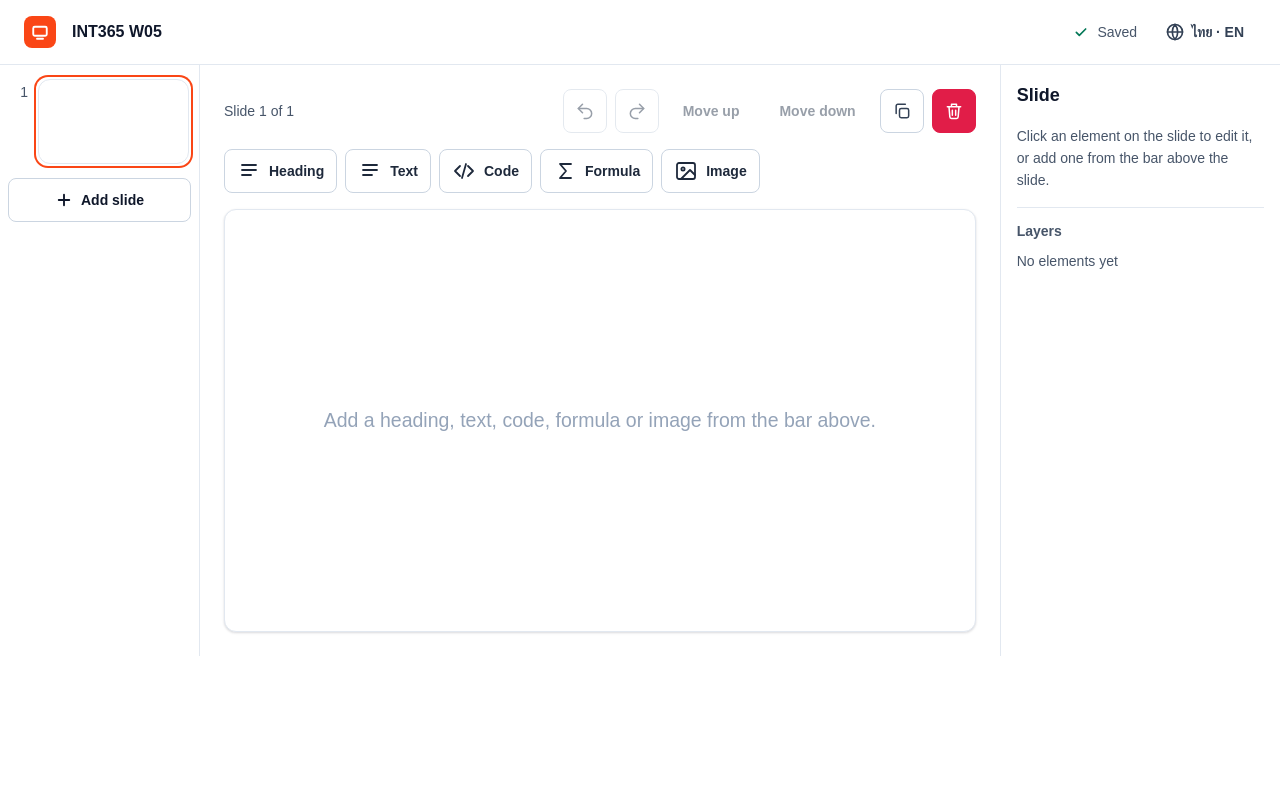
Scenario: DeckEditor: adding elements › adds a heading, ready to type in, and saves what is typed
Expected: the heading "INT365 W05" is shown, x1=72 y1=23 x2=162 y2=40
Click the button "Heading" at point(281, 171), box x1=224 y1=149 x2=337 y2=193
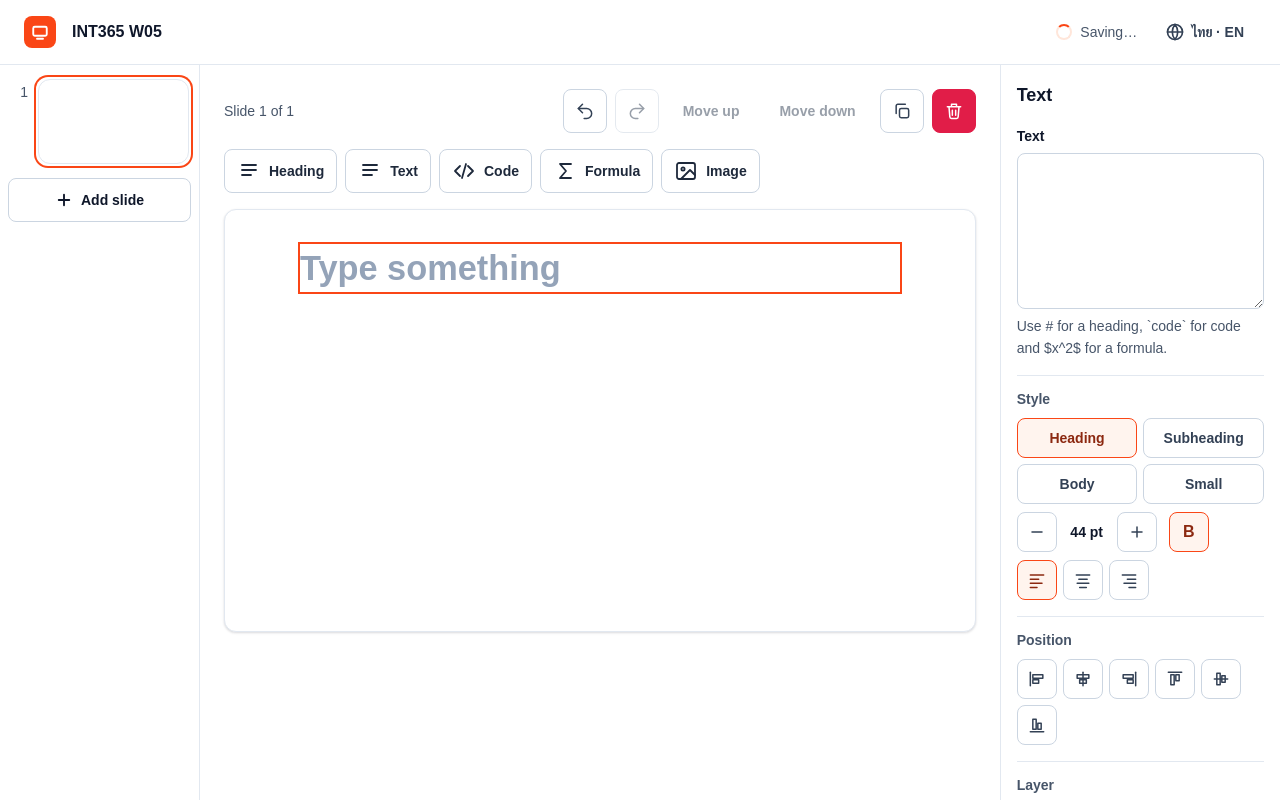
Type "Week 5" into the text box labelled "Type something" at point(600, 268), box x1=300 y1=244 x2=900 y2=292
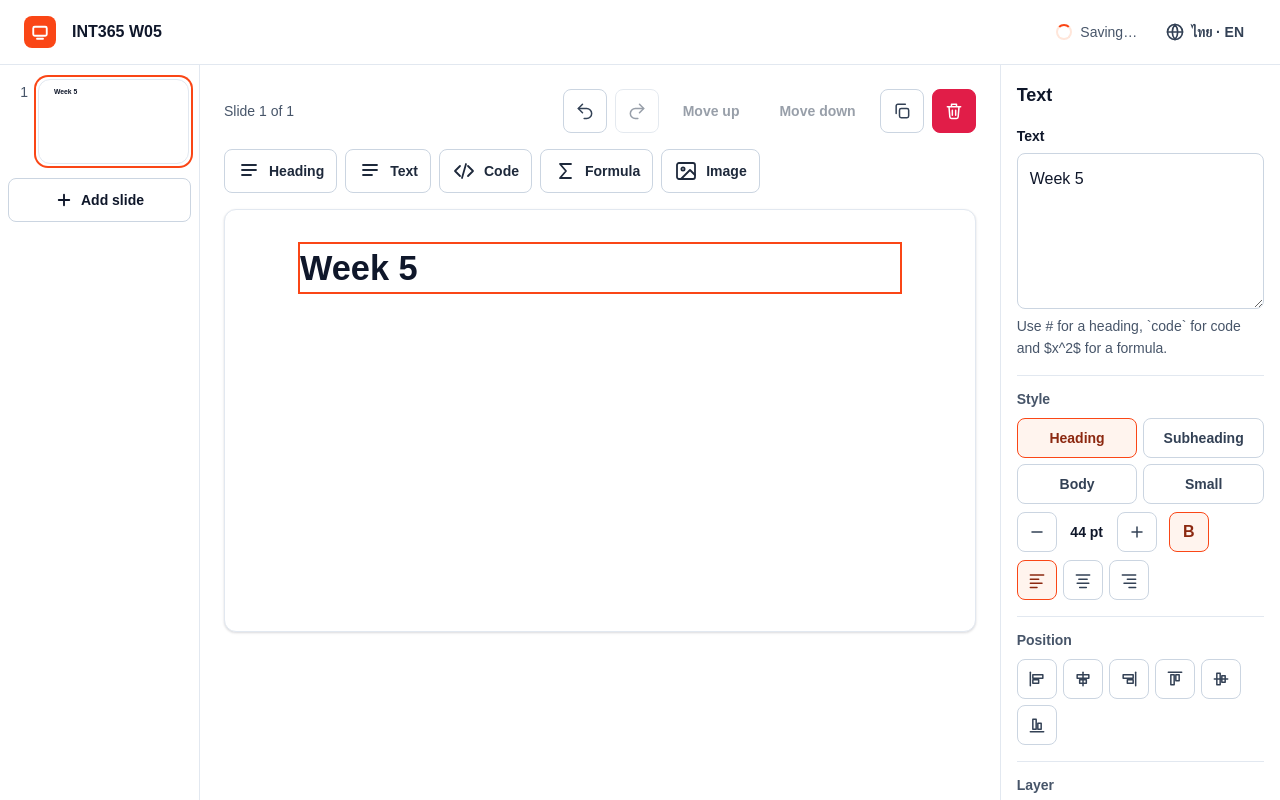
Leave the text box named "Type something", box x1=300 y1=244 x2=900 y2=292
Wait 900 ms
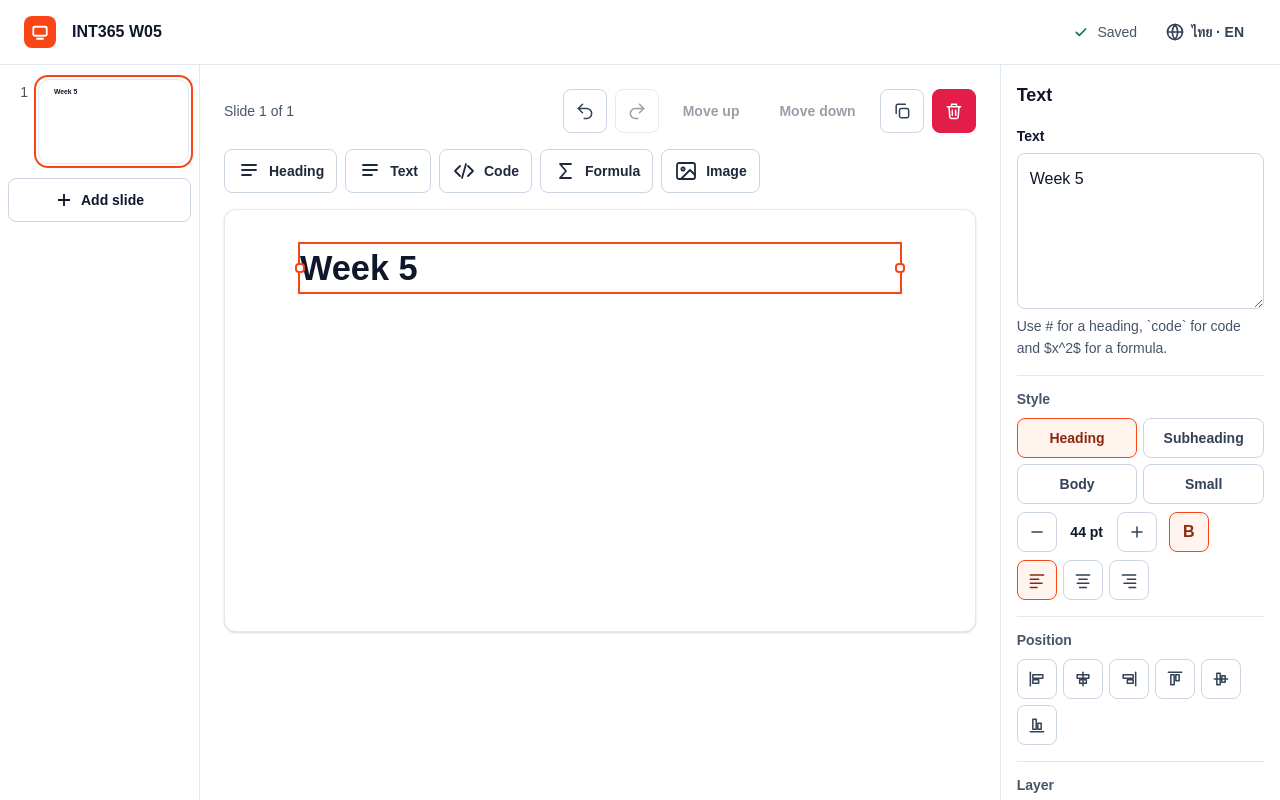
Expected: the 2nd text "Week 5" is shown, x1=300 y1=249 x2=418 y2=287
